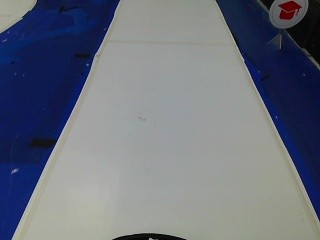school: (269, 0, 304, 29)
